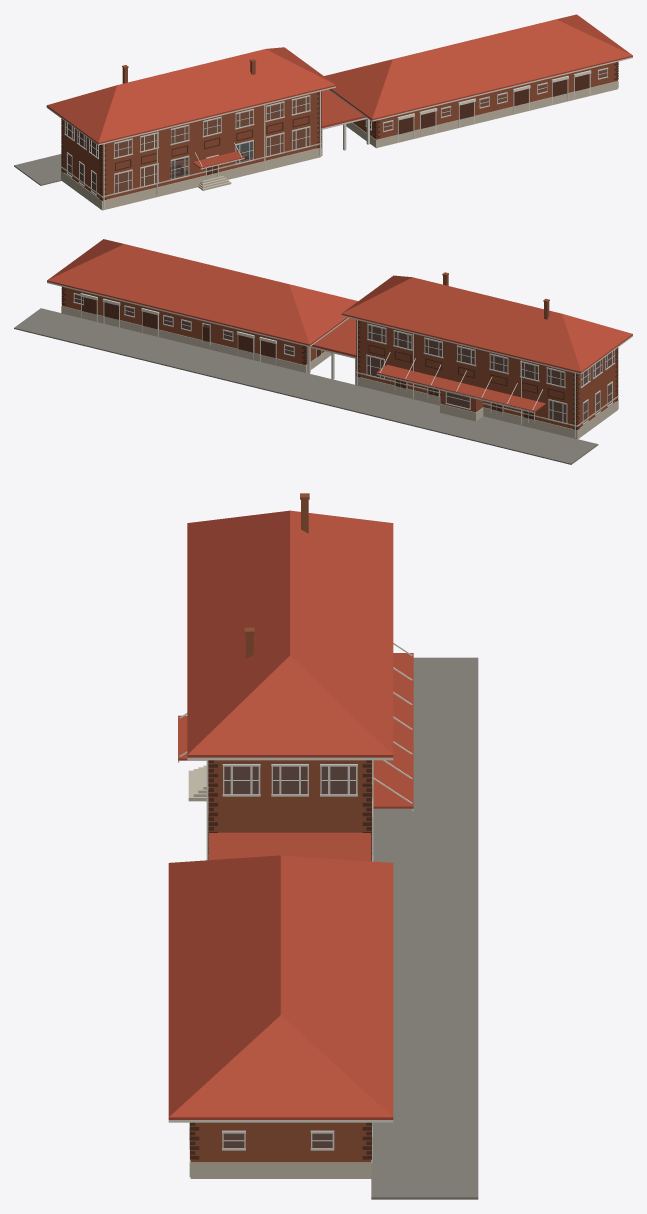
The model's file is La_Crosse_Depot.glb.
The picture shows the model from 3 angles, top to bottom: view 1: azimuth 30°, elevation 25°; view 2: azimuth 150°, elevation 25°; view 3: azimuth 270°, elevation 25°; orthographic projection. The views are drawn at different scales.
Visible parts, largest first — view 1: roof, brick, stone, glass, sash, trim, doors, platform, foundation; view 2: roof, platform, brick, stone, trim, glass, doors, sash; view 3: roof, platform, brick, stone, glass, trim, sash, doors.
Part boxes in pixels (x1,y1,x2,y2): roof: (46, 14, 632, 168); brick: (62, 62, 617, 199); stone: (61, 80, 618, 209); glass: (65, 69, 606, 193); sash: (64, 67, 608, 195); trim: (46, 57, 632, 208); doors: (61, 61, 618, 200); platform: (14, 154, 61, 185); foundation: (61, 88, 617, 210); roof: (47, 239, 632, 411); platform: (14, 308, 598, 464); brick: (62, 287, 617, 428); stone: (61, 306, 618, 438); trim: (47, 282, 632, 437); glass: (75, 295, 613, 422); doors: (61, 287, 618, 429); sash: (73, 293, 615, 424); roof: (168, 510, 413, 1119); platform: (371, 657, 478, 1199); brick: (190, 760, 371, 1162); stone: (188, 765, 372, 1177); glass: (224, 767, 355, 1147); trim: (168, 642, 413, 1157); sash: (189, 760, 372, 1150); doors: (190, 760, 371, 1159).
Bounding box in the file's own units: 2.76 × 0.5507 × 0.6696.
